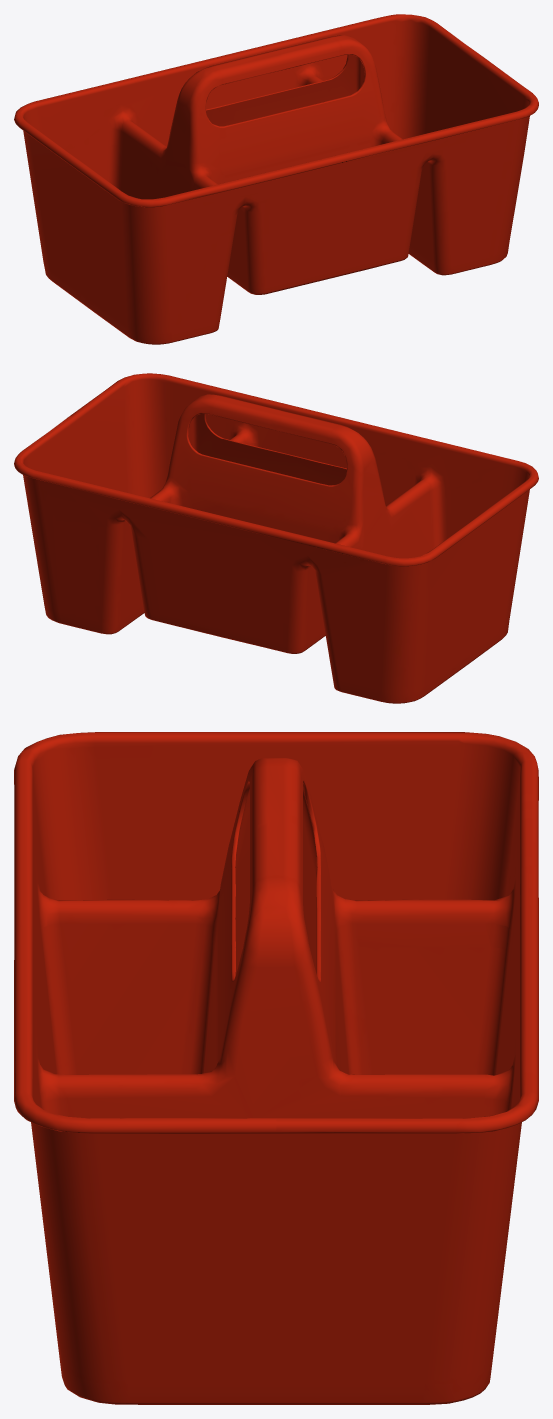
File: Stackstod60620144-scene-512.glb
3 views of the same model, one above another, from view 1: azimuth 30°, elevation 25°; view 2: azimuth 150°, elevation 25°; view 3: azimuth 270°, elevation 25° (orthographic). The views are drawn at different scales.
Visible parts, largest first — view 1: ASY_ART_60620144_S01_NV01; view 2: ASY_ART_60620144_S01_NV01; view 3: ASY_ART_60620144_S01_NV01.
Part boxes in pixels (x1,y1,x2,y2): ASY_ART_60620144_S01_NV01: (14, 14, 538, 344); ASY_ART_60620144_S01_NV01: (14, 373, 538, 703); ASY_ART_60620144_S01_NV01: (14, 732, 538, 1404).
Bounding box in the file's own units: 0.3205 × 0.1549 × 0.1804.
1 material, 1 textured.
